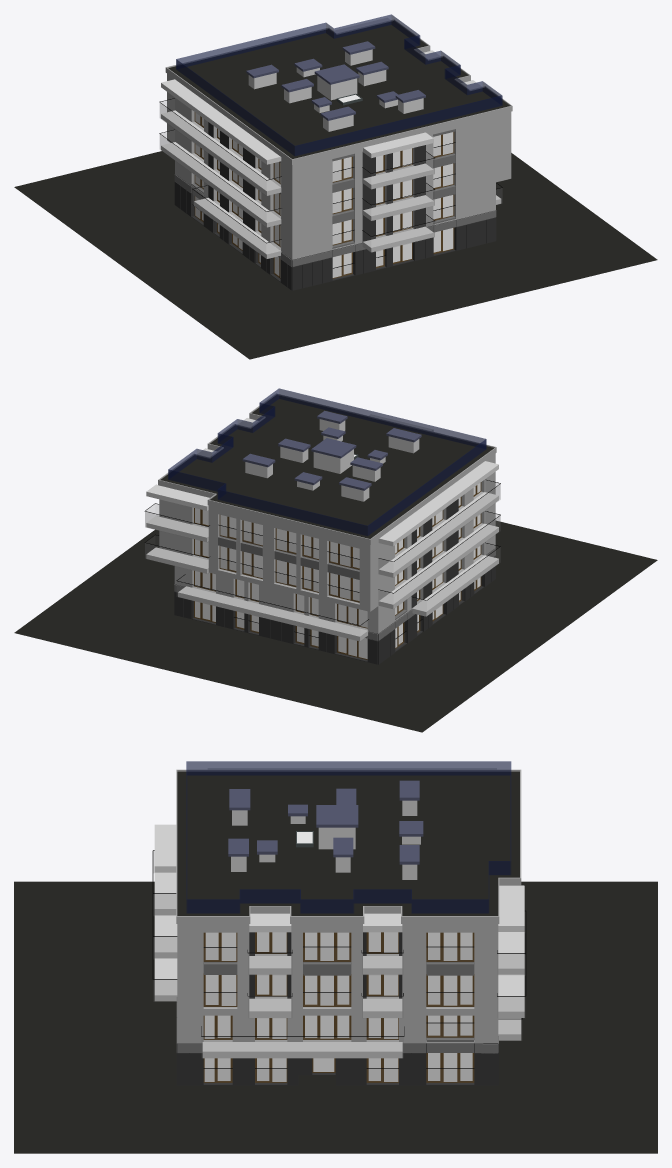
The model's file is building.glb.
3 views of the same model, one above another, from view 1: azimuth 30°, elevation 25°; view 2: azimuth 150°, elevation 25°; view 3: azimuth 270°, elevation 25° (orthographic). The views are drawn at different scales.
Visible parts, largest first — view 1: B; view 2: B; view 3: B.
Part boxes in pixels (bbox=[...]): B: bbox=[14, 14, 657, 359]; B: bbox=[14, 388, 657, 732]; B: bbox=[14, 761, 657, 1153].
Bounding box in the file's own units: 35.42 × 12.38 × 35.42.
